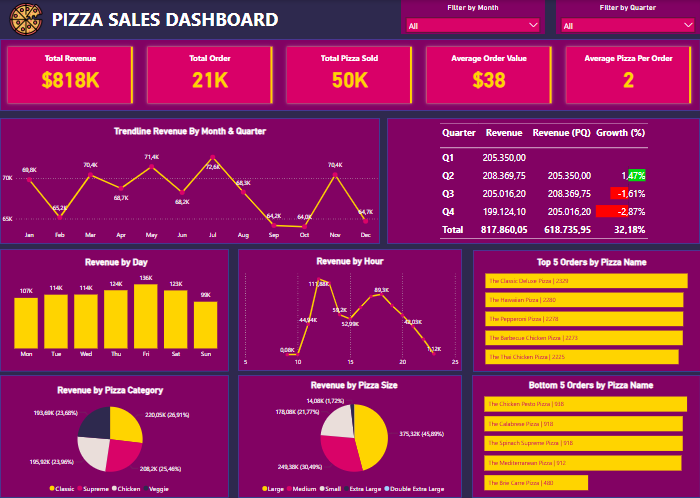

This screenshot's page, from the dashboard's own definition file:
{"tool":"powerbi","page":{"name":"Page 1","canvas":[1440,1024],"ordinal":0},"visuals":[{"type":"shape","box":[0,80,1440,148],"z":0},{"type":"cardVisual","fields":{"Data":["pizza_project_db pizza_sales.Total Revenue","pizza_project_db pizza_sales.Total Order","pizza_project_db pizza_sales.Total Pizza Sold","pizza_project_db pizza_sales.Average Order Value","pizza_project_db pizza_sales.Average Pizza Per Order"]},"box":[0,80,1440,148],"z":1000},{"type":"shape","box":[0,512,470,251.7],"z":2000},{"type":"shape","box":[489.4,512,460.6,250.9],"z":3000},{"type":"shape","box":[972,514,469.1,250],"z":4000},{"type":"shape","box":[0,772,470,251.9],"z":4000,"group":"g4"},{"type":"image","box":[15,0,78.3,80],"z":5000},{"type":"shape","box":[490,772,460,252],"z":5000,"group":"g2"},{"type":"textbox","box":[100,8,508,62],"z":6000},{"type":"shape","box":[970,772,470,252.2],"z":6000,"group":"g1"},{"type":"slicer","title":"FIlter by Month","fields":{"Values":["Calendar.Month Name"]},"box":[824,0,296,70],"z":7000},{"type":"columnChart","title":"Revenue by Day","fields":{"Category":["pizza_project_db pizza_sales.Day Name"],"Y":["pizza_project_db pizza_sales.Total Revenue"]},"box":[0,528.7,478.4,218.3],"z":8000},{"type":"lineChart","title":"Revenue by Hour","fields":{"Category":["pizza_project_db pizza_sales.Hour"],"Y":["pizza_project_db pizza_sales.Total Revenue"]},"box":[489.4,526.4,460.6,236.5],"z":9000},{"type":"group","id":"g1","title":"Group 4","box":[970,772,470,252],"z":10000},{"type":"pieChart","title":"Revenue by Pizza Category","fields":{"Category":["pizza_project_db pizza_sales.pizza_category"],"Y":["pizza_project_db pizza_sales.Total Revenue"]},"box":[0,792.4,453.2,231.6],"z":10000,"group":"g4"},{"type":"group","id":"g2","title":"Group 7","box":[490,772,478,252],"z":10001,"group":"g3"},{"type":"group","id":"g3","title":"Group 5","box":[490,772,478,252],"z":11000},{"type":"pieChart","title":"Revenue by Pizza Size","fields":{"Category":["pizza_project_db pizza_sales.pizza_size"],"Y":["pizza_project_db pizza_sales.Total Revenue"]},"box":[490,781.9,478,242.1],"z":11000,"group":"g2"},{"type":"shape","box":[0,242.6,781.4,259.1],"z":12000},{"type":"clusteredBarChart","title":"Bottom 5 Orders by Pizza Name","fields":{"Category":["pizza_project_db pizza_sales.pizza_name"],"Y":["pizza_project_db pizza_sales.Total Order"]},"box":[991.5,782.4,448.5,233.1],"z":12000,"group":"g1"},{"type":"group","id":"g4","title":"Group 6","box":[0,772,470,252],"z":13000},{"type":"lineChart","title":"Trendline Revenue By  Month & Quarter","fields":{"Y":["pizza_project_db pizza_sales.Total Revenue"],"Category":["Calendar.Quarter Hierarchy.Quarter","Calendar.Quarter Hierarchy.Month Name"]},"box":[0,260,782,242],"z":14000},{"type":"clusteredBarChart","title":"Top 5 Orders by Pizza Name","fields":{"Category":["pizza_project_db pizza_sales.pizza_name"],"Y":["pizza_project_db pizza_sales.Total Order"]},"box":[993.4,528.1,447.6,226.7],"z":15000},{"type":"shape","box":[795.7,242.8,643.6,259.1],"z":16000},{"type":"pivotTable","fields":{"Rows":["Calendar.Quarter"],"Values":["pizza_project_db pizza_sales.Total Revenue","pizza_project_db pizza_sales.Revenue (Previous Quarter)","pizza_project_db pizza_sales.Quarterly Revenue Growth (%)"]},"box":[883.4,243.2,468.3,258.3],"z":17000},{"type":"slicer","title":"FIlter by Quarter","fields":{"Values":["Calendar.Quarter"]},"box":[1144,0,296,70],"z":18000}]}

Visuals, with their boxes in screenshot pixels (x1, y1, x2, y2), scaled from the page's 1440x1024 canvas onto the 700x498 screenshot:
shape: (0,39,699,111)
cardVisual - pizza_project_db pizza_sales.Total Revenue x pizza_project_db pizza_sales.Total Order: (0,39,699,111)
shape: (0,249,228,371)
shape: (238,249,462,371)
shape: (472,250,699,372)
shape: (0,375,228,497)
image: (7,0,45,39)
shape: (238,375,462,497)
textbox: (49,4,296,34)
shape: (472,375,699,497)
"FIlter by Month" slicer: (401,0,544,34)
"Revenue by Day" columnChart: (0,257,233,363)
"Revenue by Hour" lineChart: (238,256,462,371)
"Group 4" group: (472,375,699,497)
"Revenue by Pizza Category" pieChart: (0,385,220,497)
"Group 7" group: (238,375,471,497)
"Group 5" group: (238,375,471,497)
"Revenue by Pizza Size" pieChart: (238,380,471,497)
shape: (0,118,380,244)
"Bottom 5 Orders by Pizza Name" clusteredBarChart: (482,381,699,494)
"Group 6" group: (0,375,228,497)
"Trendline Revenue By  Month & Quarter" lineChart: (0,126,380,244)
"Top 5 Orders by Pizza Name" clusteredBarChart: (483,257,699,367)
shape: (387,118,699,244)
pivotTable - Calendar.Quarter x pizza_project_db pizza_sales.Total Revenue: (429,118,657,244)
"FIlter by Quarter" slicer: (556,0,699,34)
